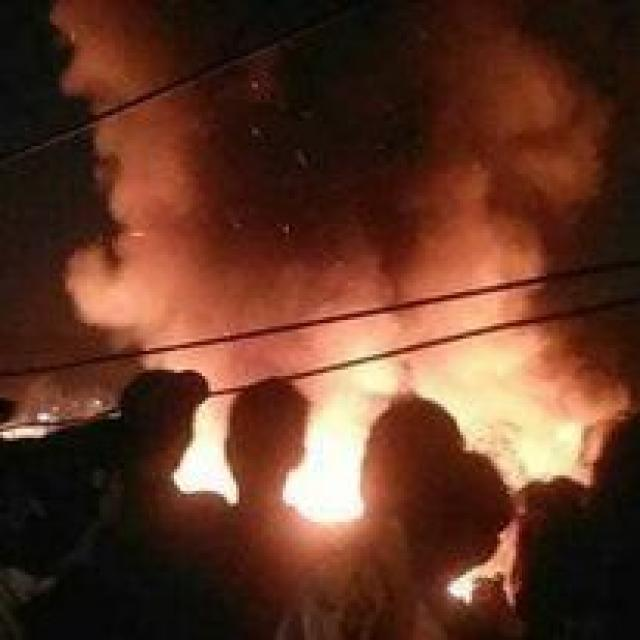Fire: (281, 409, 373, 521), (169, 412, 240, 510), (445, 571, 497, 608)
Smoke: (40, 0, 616, 485)
